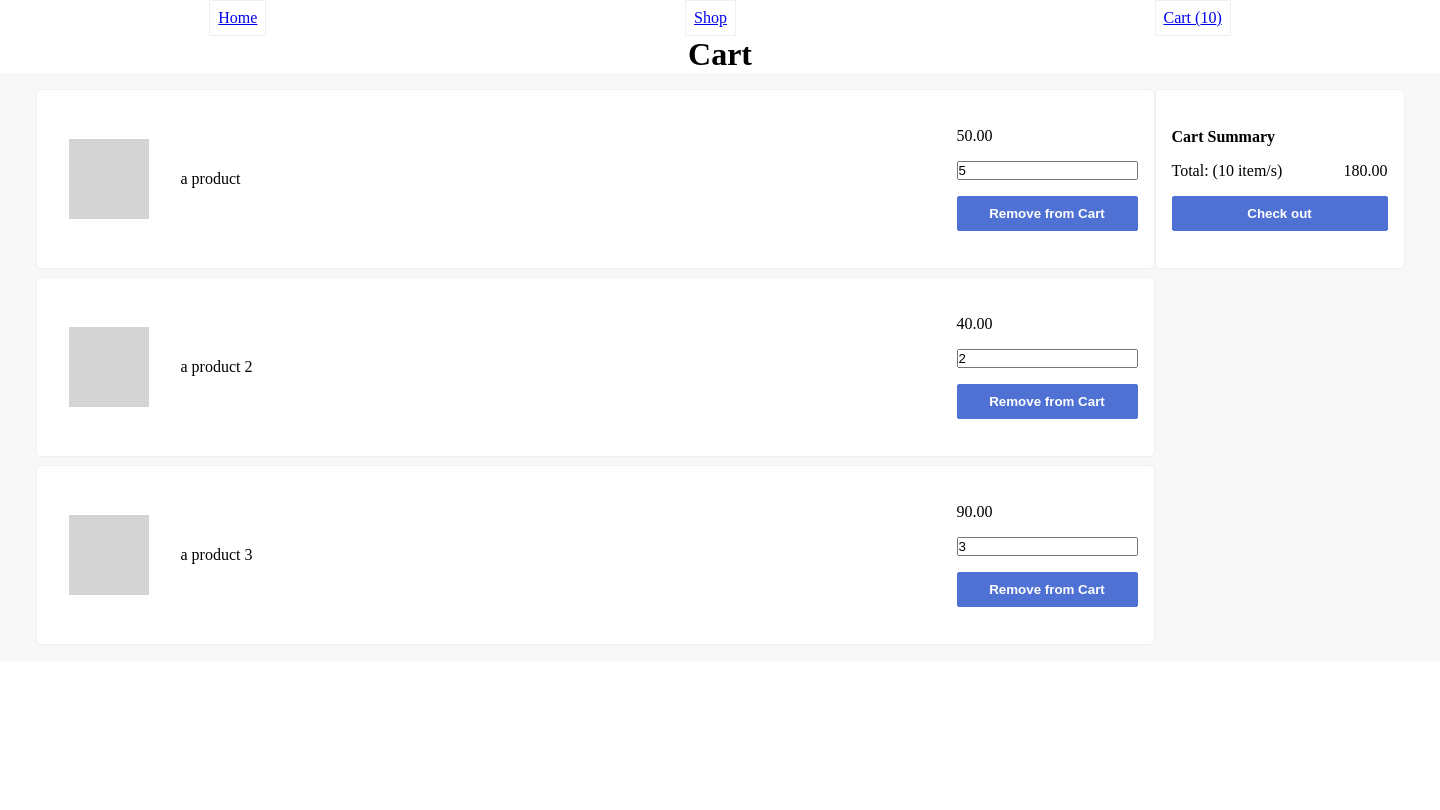
CartSummary component › when clicking the checkout button › renders the thanks for shopping heading and removes the cart summary
This screenshot has width=1440, height=810.
Expected: the text "Cart Summary" is shown, [1172,128,1275,144]
Step 1. Click the button "Check out" → (1280, 213), box [1172,196,1388,230]
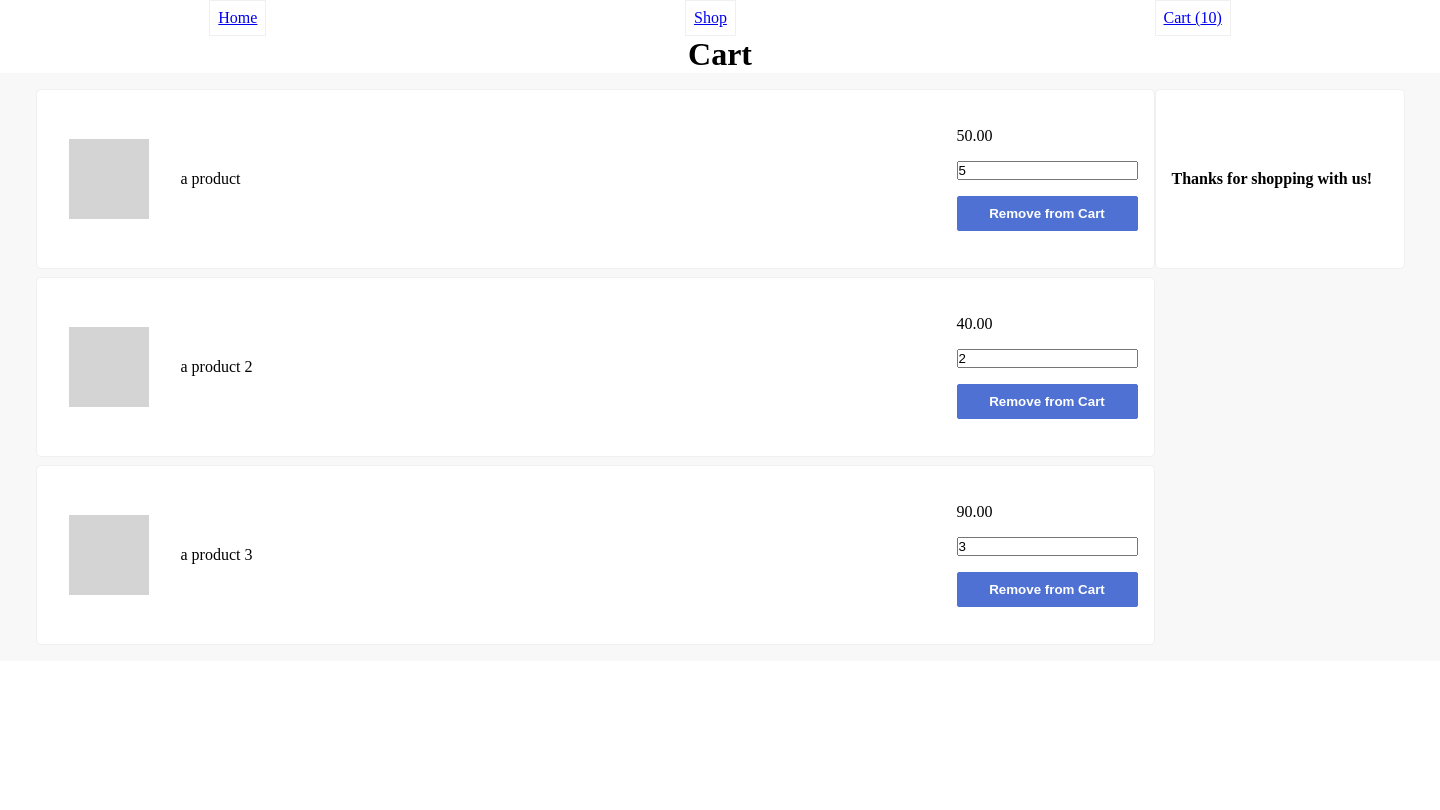
Now the text "Thanks for shopping with us!" is shown, box [1172,170,1388,188]
Now the text "Cart Summary" is gone
